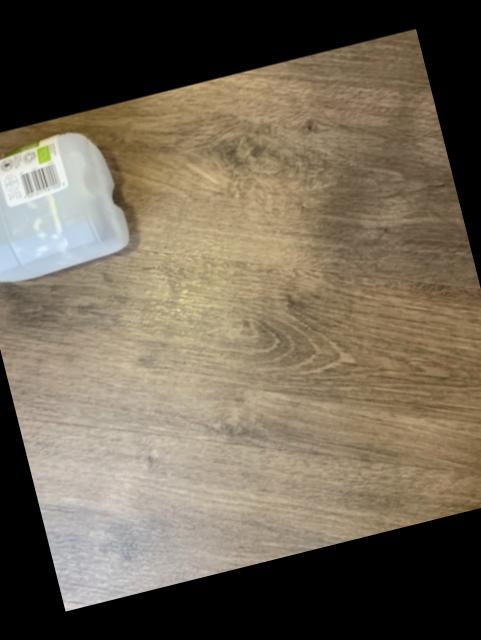plastic: (0, 132, 125, 280)
